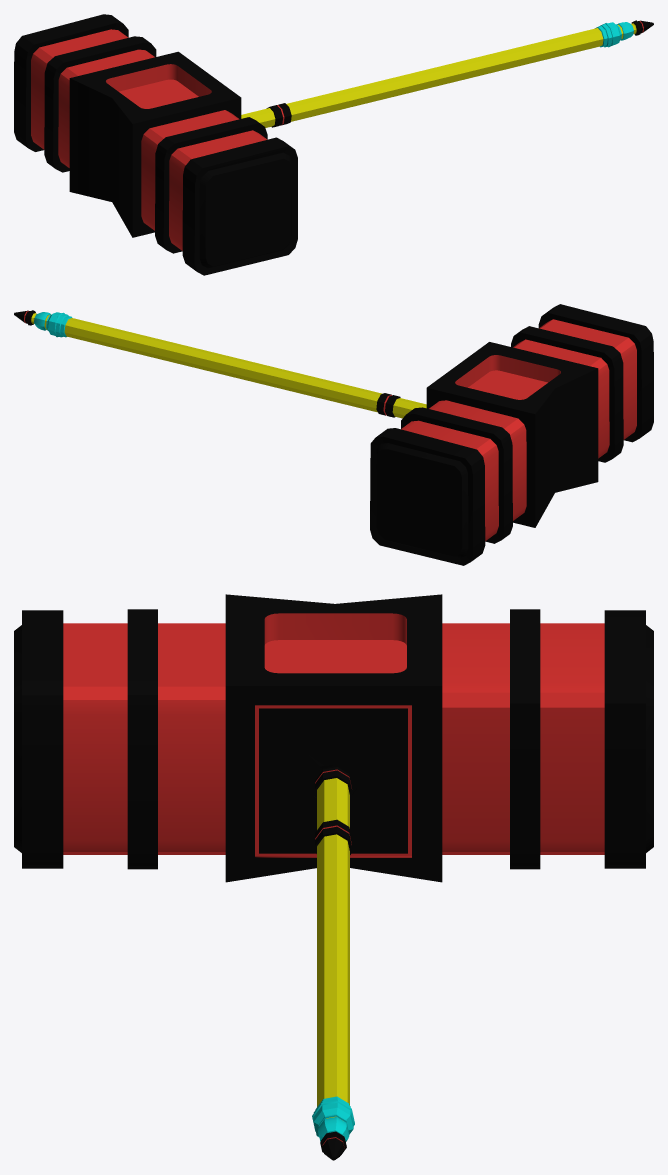
The model's file is hammer low-poly.fbx.
3 views of the same model, one above another, from view 1: azimuth 30°, elevation 25°; view 2: azimuth 150°, elevation 25°; view 3: azimuth 270°, elevation 25° (orthographic). The views are drawn at different scales.
Visible parts, largest first — view 1: hammer_lowpoly; view 2: hammer_lowpoly; view 3: hammer_lowpoly.
Boxes of the visible parts, left/top/right/bottom form: hammer_lowpoly: left=14, top=14, right=653, bottom=275; hammer_lowpoly: left=14, top=304, right=653, bottom=565; hammer_lowpoly: left=14, top=594, right=653, bottom=1160.
Size of the model in its own units: 747 by 147 by 435.
